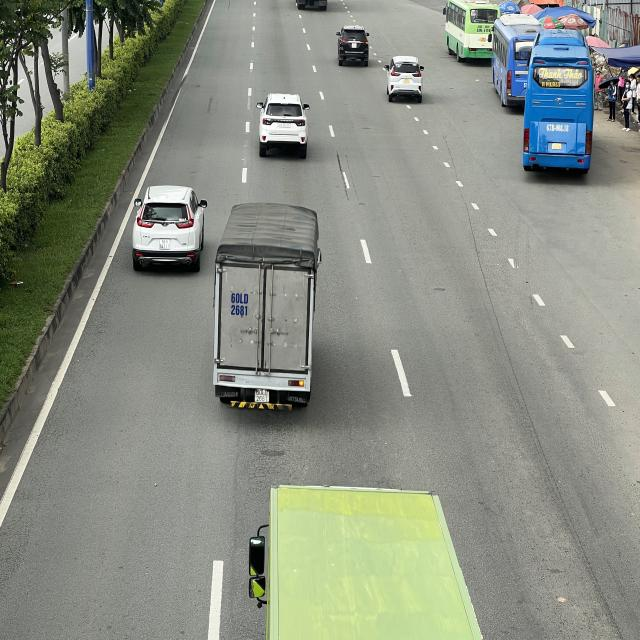car: (133, 184, 209, 271), (254, 90, 311, 158), (387, 54, 424, 104), (337, 27, 372, 67)
coach: (521, 33, 596, 174), (491, 14, 546, 109), (442, 0, 496, 63)
truck: (212, 202, 323, 414)
